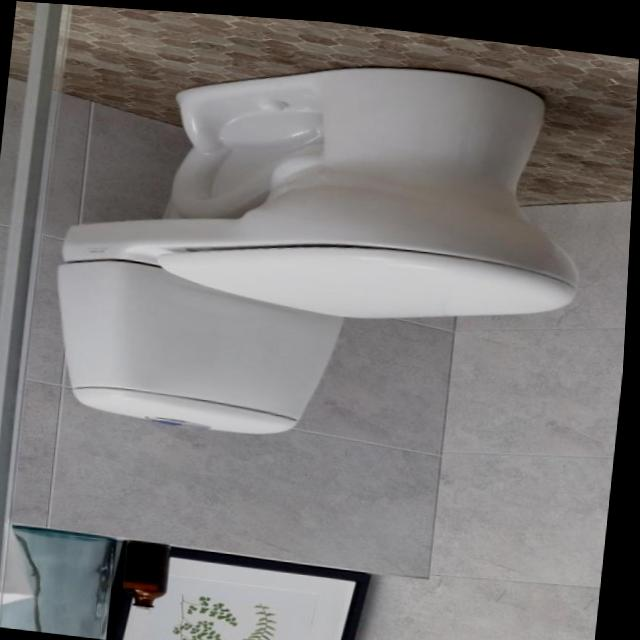toilet: (46, 26, 602, 467)
